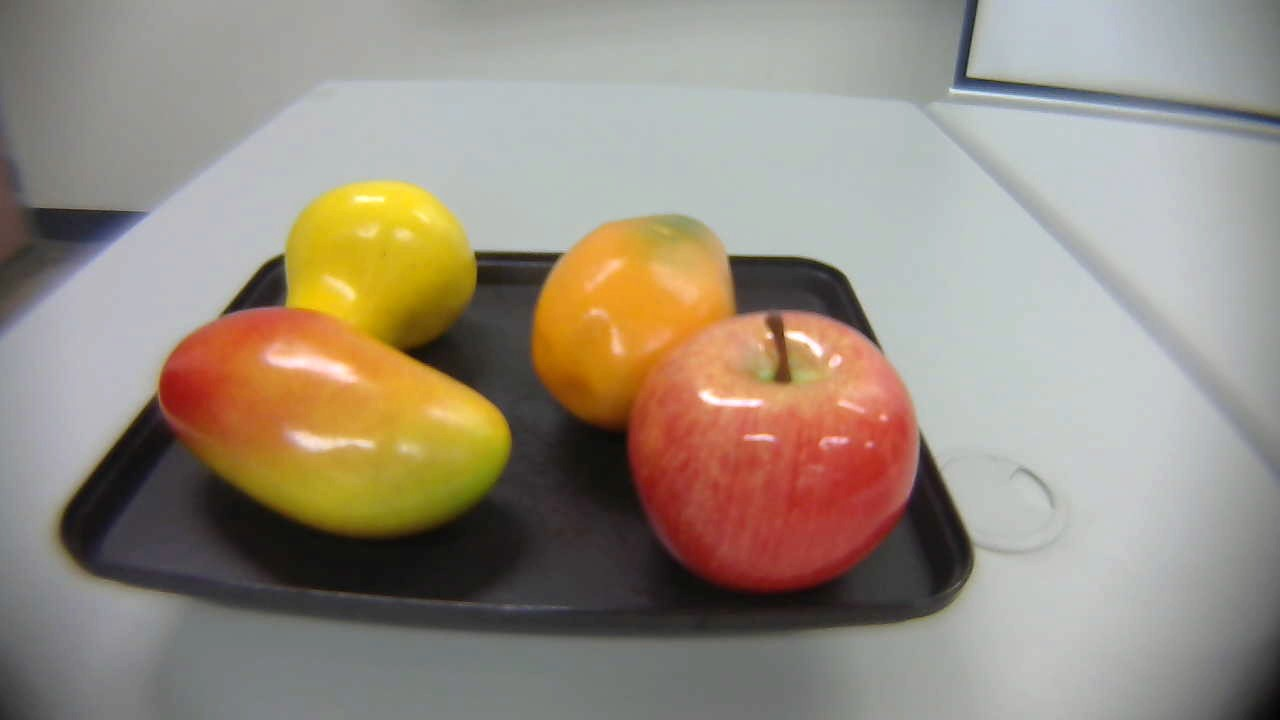papya: (530, 206, 740, 434)
red apple: (622, 301, 925, 609)
red mango: (145, 301, 523, 546)
yellow pear: (268, 183, 495, 364)
